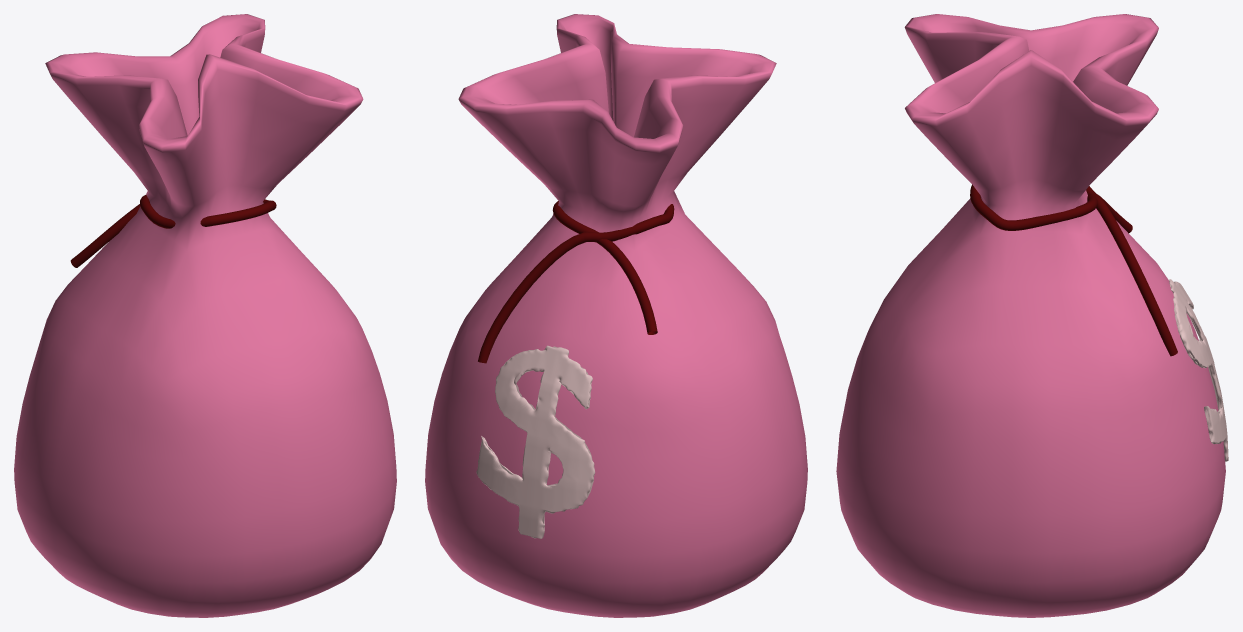
Rendered from moneyBag-transformed.glb.
3 views of the same model, side by side, from view 1: azimuth 30°, elevation 25°; view 2: azimuth 150°, elevation 25°; view 3: azimuth 270°, elevation 25° (orthographic). The views are drawn at different scales.
Parts seen in each view (by area): view 1: Cube_Bag_0, BezierCurve.001_Rope_0; view 2: Cube_Bag_0, Text_Dol_0, BezierCurve.001_Rope_0; view 3: Cube_Bag_0, BezierCurve.001_Rope_0, Text_Dol_0.
Boxes of the visible parts, x1,y1,x2,y2 form: Cube_Bag_0: (14, 14, 396, 617); BezierCurve.001_Rope_0: (70, 195, 276, 267); Cube_Bag_0: (425, 14, 807, 617); Text_Dol_0: (476, 345, 595, 538); BezierCurve.001_Rope_0: (478, 201, 674, 363); Cube_Bag_0: (836, 14, 1225, 617); BezierCurve.001_Rope_0: (970, 184, 1177, 356); Text_Dol_0: (1169, 279, 1228, 461).
Bounding box in the file's own units: 162 × 246 × 163.
